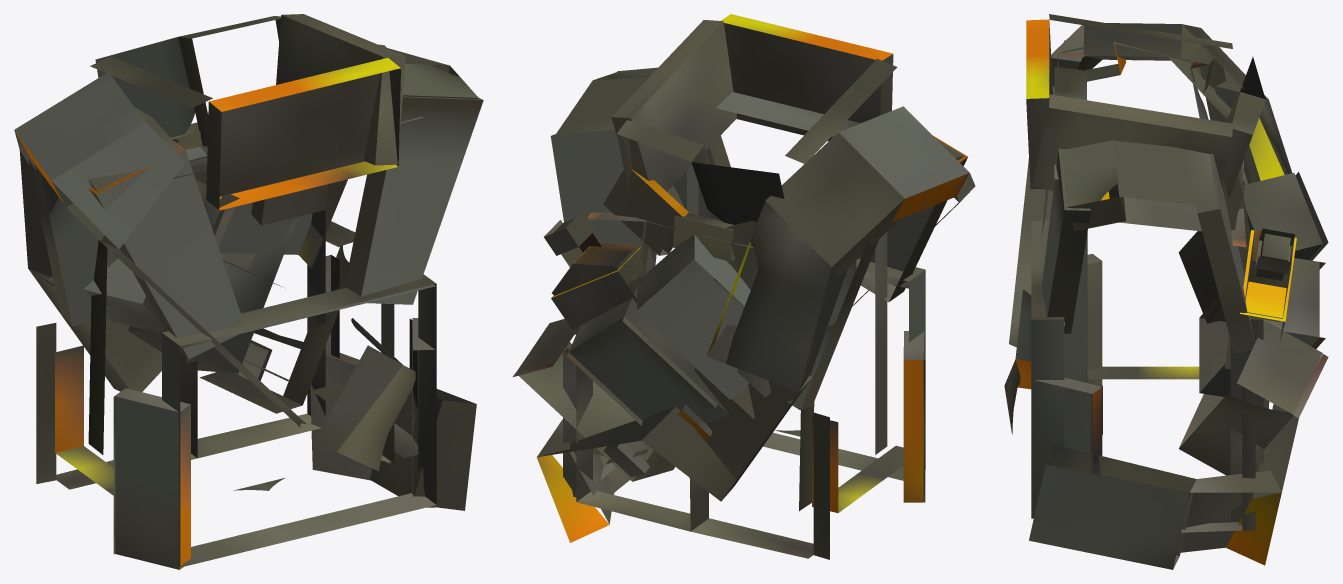
Rendered from berserk.obj.
3 views of the same model, side by side, from view 1: azimuth 30°, elevation 25°; view 2: azimuth 150°, elevation 25°; view 3: azimuth 270°, elevation 25° (orthographic). The views are drawn at different scales.
Visible parts, largest first — view 1: cube; view 2: cube; view 3: cube.
Part boxes in pixels (left/top/right/bottom): cube: left=14, top=14, right=483, bottom=569; cube: left=513, top=14, right=975, bottom=559; cube: left=1004, top=14, right=1328, bottom=569.
Size of the model in its own units: 0.8014 by 0.9333 by 0.6098.
